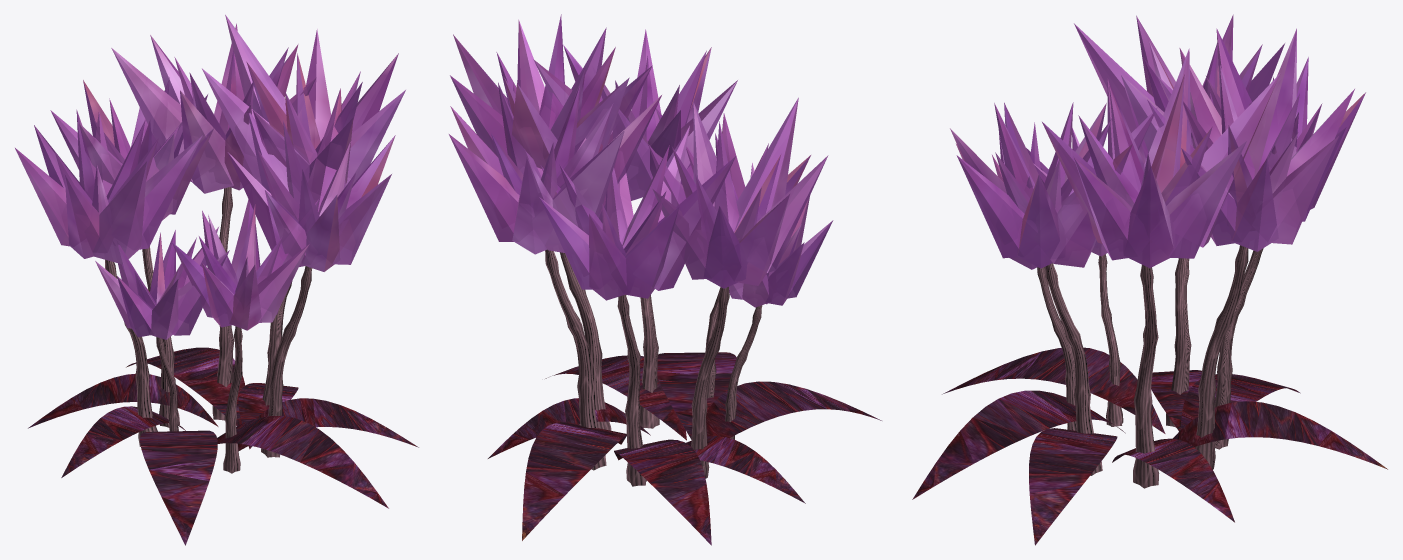
File: crystal_03.glb
3 renders of one model, left to right at view 1: azimuth 30°, elevation 25°; view 2: azimuth 150°, elevation 25°; view 3: azimuth 270°, elevation 25°, orthographic. The views are drawn at different scales.
Visible parts, largest first — view 1: export; view 2: export; view 3: export.
Part boxes in pixels (x1=…): export: x1=15, y1=14, x2=418, y2=545; export: x1=449, y1=14, x2=881, y2=545; export: x1=912, y1=14, x2=1387, y2=545.
Bounding box in the file's own units: 1.03 × 1.06 × 1.07.
3 materials, 3 textured.
